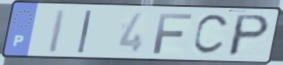4: (116, 11, 148, 56)
C: (190, 12, 232, 57)
F: (151, 12, 195, 56)
I: (45, 7, 69, 55), (76, 9, 94, 55)
P: (226, 13, 273, 58)
